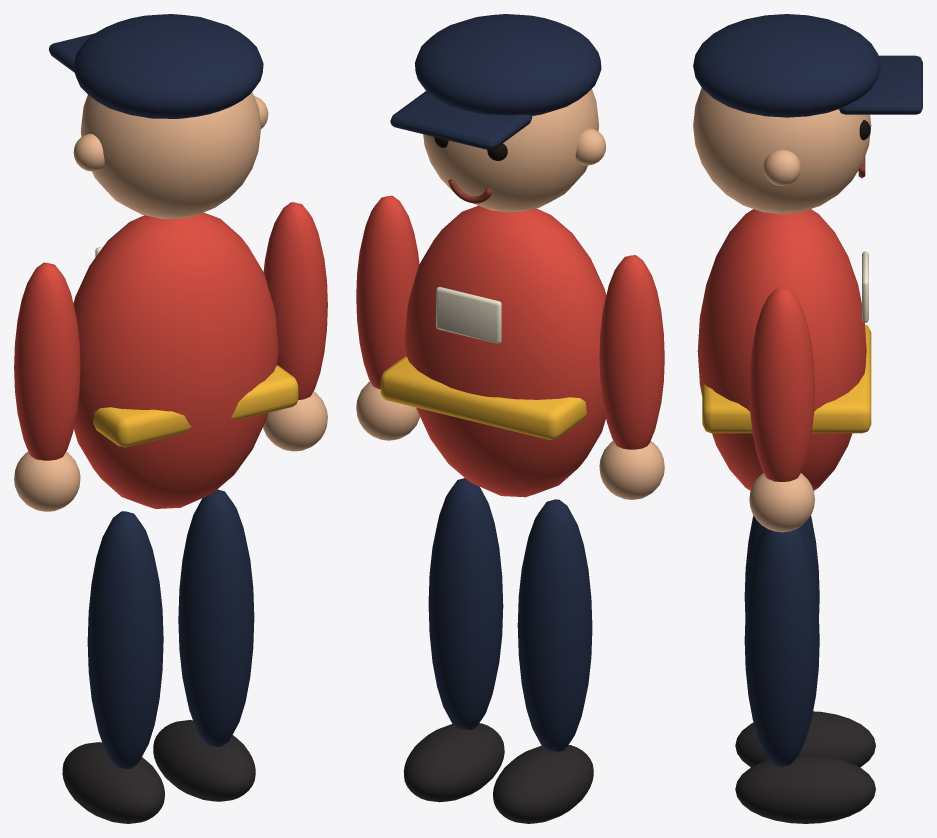
Rendered from courier.fbx.
The picture shows the model from 3 angles, left to right: view 1: azimuth 30°, elevation 25°; view 2: azimuth 150°, elevation 25°; view 3: azimuth 270°, elevation 25°; orthographic projection.
Parts seen in each view (by area): view 1: Body, Head, LegR, LegL, ArmR, ArmL; view 2: Body, Head, LegR, LegL, ArmR, ArmL; view 3: Head, Body, LegL, ArmL, LegR.
Boxes of the visible parts, x1,y1,x2,y2 form: Body: (73,212,298,508); Head: (48,14,268,219); LegR: (62,511,164,823); LegL: (153,489,255,801); ArmR: (14,262,80,511); ArmL: (263,202,327,451); Body: (380,205,606,497); Head: (390,14,606,212); LegR: (493,499,593,823); LegL: (403,478,504,802); ArmR: (599,255,664,499); ArmL: (356,195,419,440); Head: (693,14,922,214); Body: (697,209,871,490); LegL: (735,527,875,823); ArmL: (749,287,814,532); LegR: (735,515,875,767).
Bounding box in the file's own units: 0.74 × 1.8 × 0.49.
